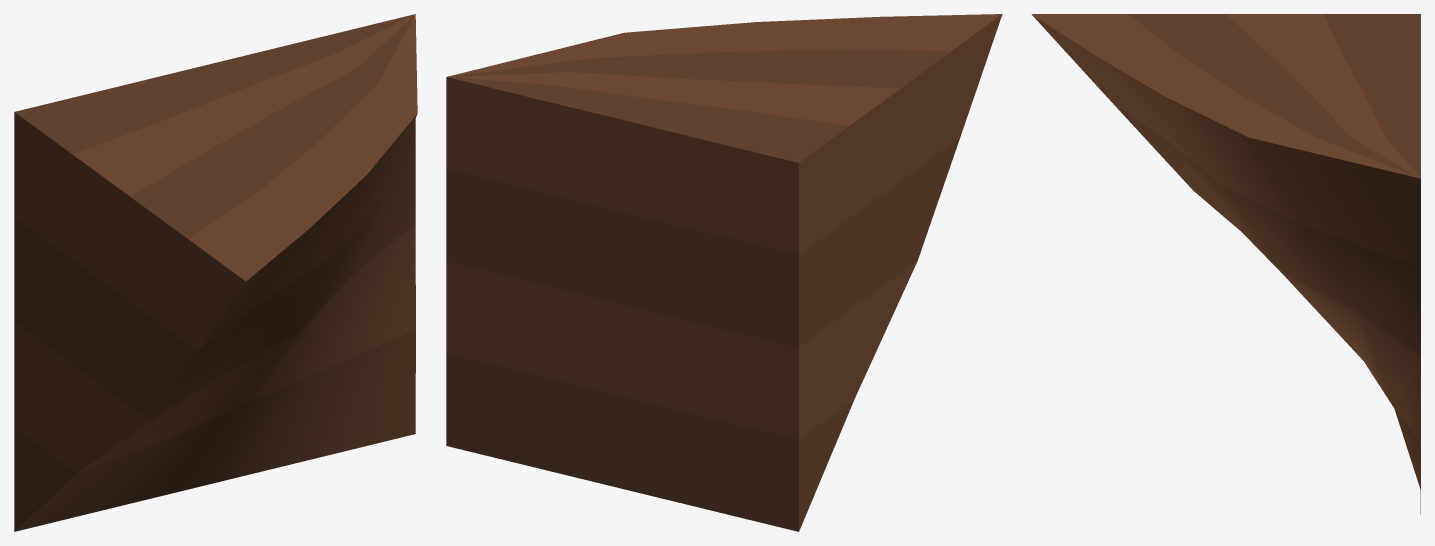
File: SideCorner.fbx
3 views of the same model, side by side, from view 1: azimuth 30°, elevation 25°; view 2: azimuth 150°, elevation 25°; view 3: azimuth 270°, elevation 25° (orthographic). The views are drawn at different scales.
Parts seen in each view (by area): view 1: pCube1; view 2: pCube1; view 3: pCube1.
Boxes of the visible parts, bbox=[...] form: pCube1: bbox=[14, 14, 417, 531]; pCube1: bbox=[446, 14, 1002, 531]; pCube1: bbox=[1031, 14, 1420, 513].
Size of the model in its own units: 1 by 1 by 1.
